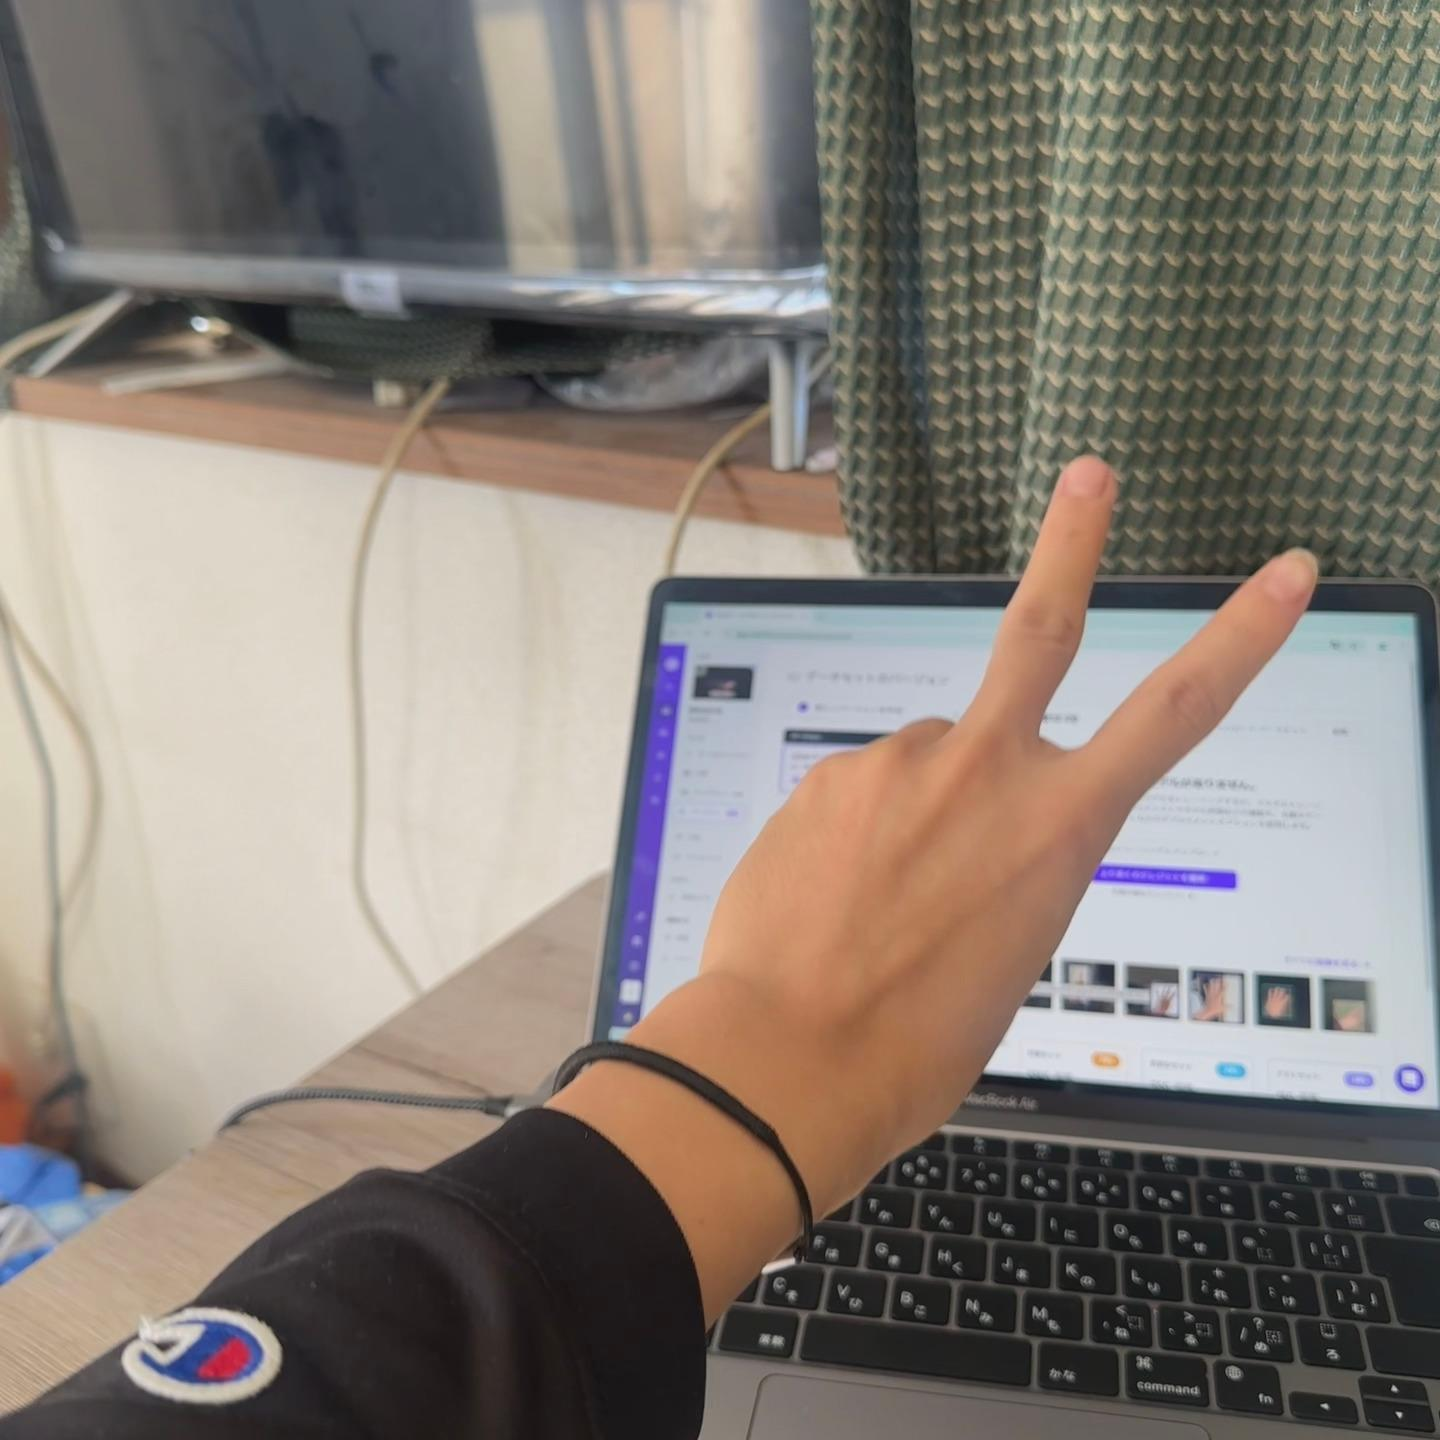without_gloves: (589, 277, 1440, 1312)
